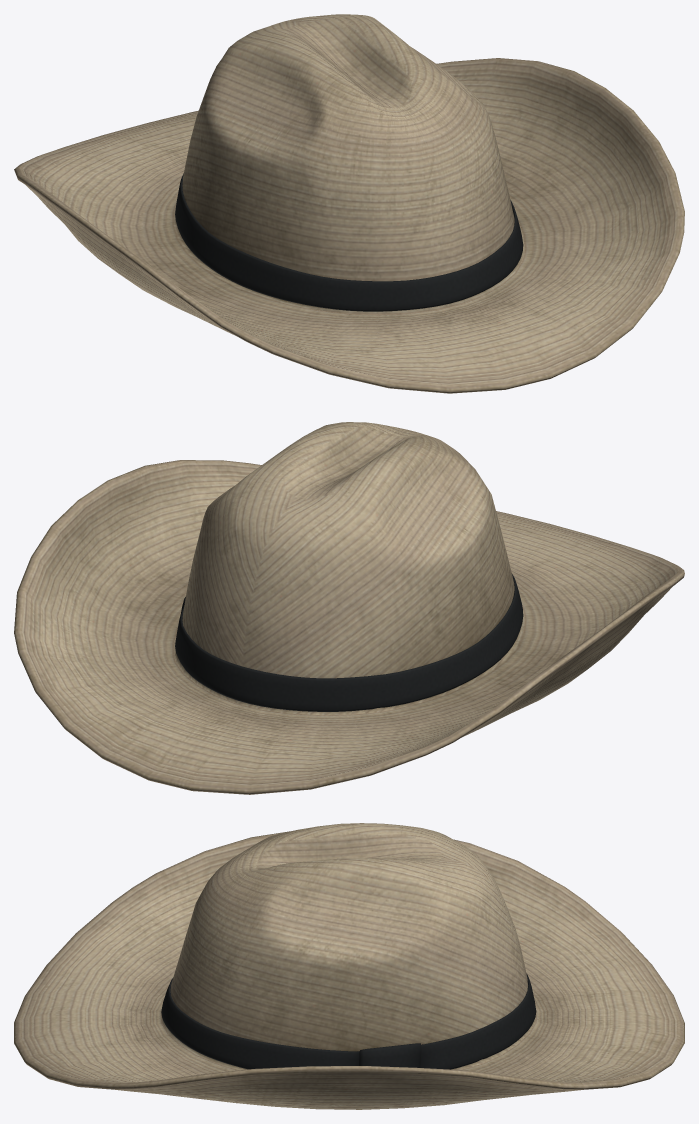
The model's file is summer_straw_hat.glb.
3 renders of one model, top to bottom at view 1: azimuth 30°, elevation 25°; view 2: azimuth 150°, elevation 25°; view 3: azimuth 270°, elevation 25°, orthographic. The views are drawn at different scales.
Parts seen in each view (by area): view 1: 0_Object002; view 2: 0_Object002; view 3: 0_Object002.
Boxes of the visible parts, x1=… form: 0_Object002: x1=14, y1=14, x2=684, y2=393; 0_Object002: x1=14, y1=422, x2=684, y2=794; 0_Object002: x1=14, y1=823, x2=684, y2=1109.
Size of the model in its own units: 0.0386 by 0.0145 by 0.0455.
1 material, 1 textured.
